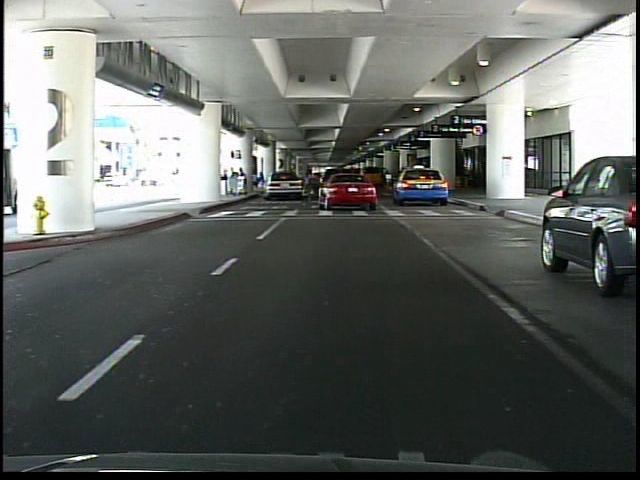person: (303, 165, 316, 200)
